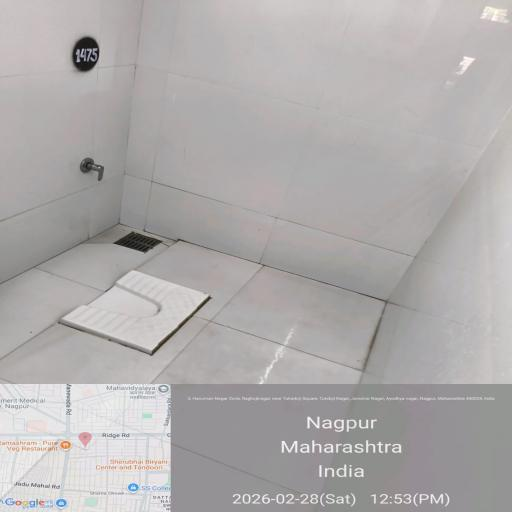clean_floor: (13, 7, 512, 231), (394, 249, 512, 373), (59, 266, 182, 342)
partial_dirty_floor: (198, 268, 382, 385), (0, 331, 66, 370)
